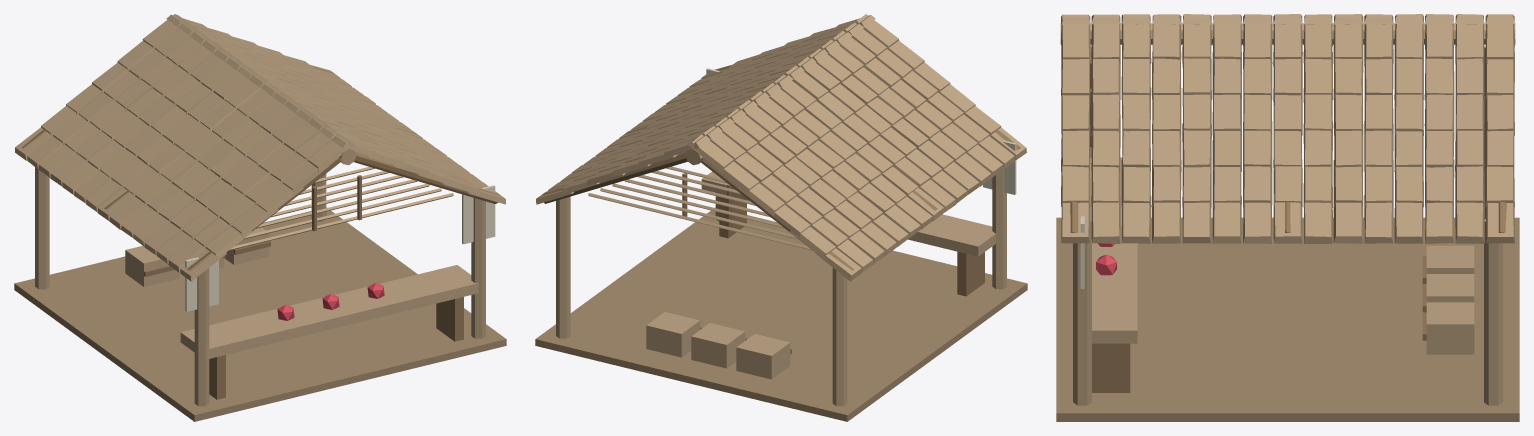
The model's file is building_market_complete.glb.
3 views of the same model, side by side, from view 1: azimuth 30°, elevation 25°; view 2: azimuth 150°, elevation 25°; view 3: azimuth 270°, elevation 25° (orthographic). The views are drawn at different scales.
Parts seen in each view (by area): view 1: building_market_complete; view 2: building_market_complete; view 3: building_market_complete.
Boxes of the visible parts, x1=… form: building_market_complete: x1=14, y1=14, x2=506, y2=421; building_market_complete: x1=535, y1=14, x2=1027, y2=421; building_market_complete: x1=1056, y1=14, x2=1519, y2=421.
Bounding box in the file's own units: 4.91 × 3.56 × 4.85.
